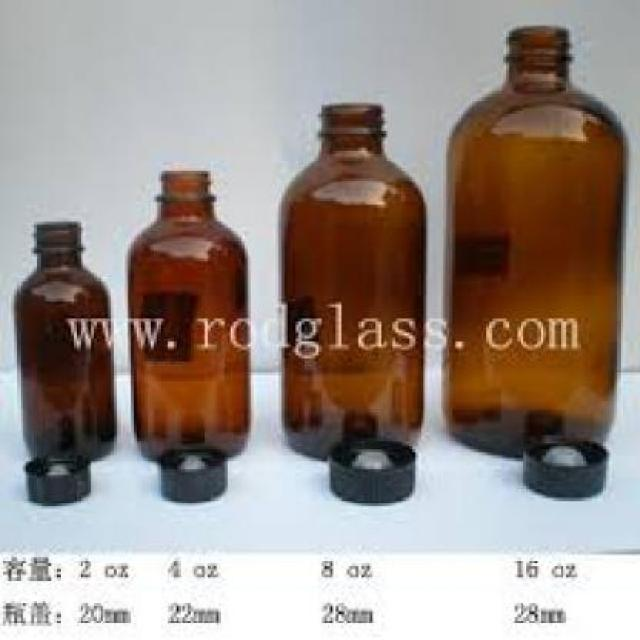kaca: (440, 23, 623, 455), (276, 100, 422, 458), (128, 171, 248, 460), (12, 223, 111, 465)
